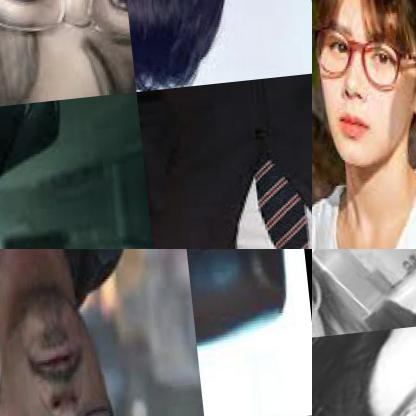glasses: (312, 15, 415, 102), (0, 0, 131, 64), (335, 318, 415, 415), (312, 249, 346, 345), (7, 397, 131, 415)
